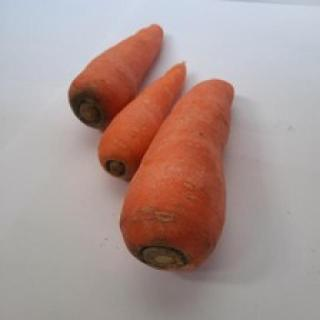carrot: (118, 78, 240, 270), (67, 22, 164, 124), (98, 63, 186, 173)
